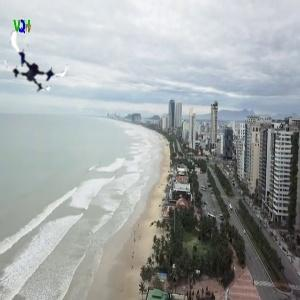drone: (3, 34, 71, 102)
